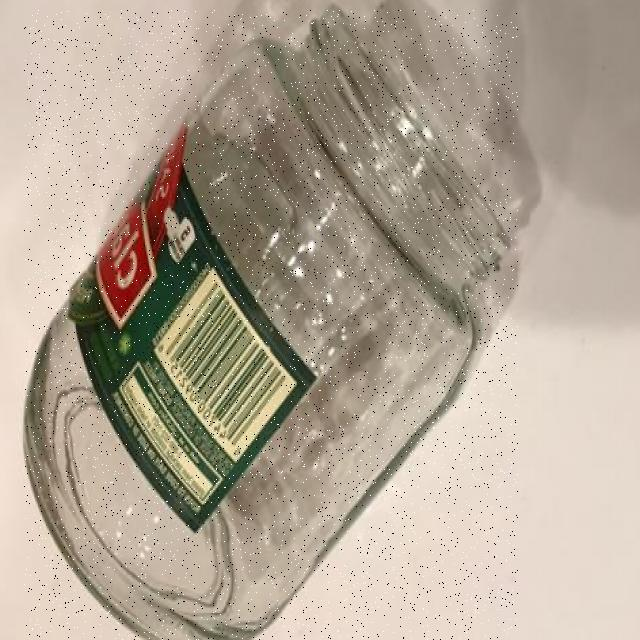glass: (25, 10, 518, 640)
